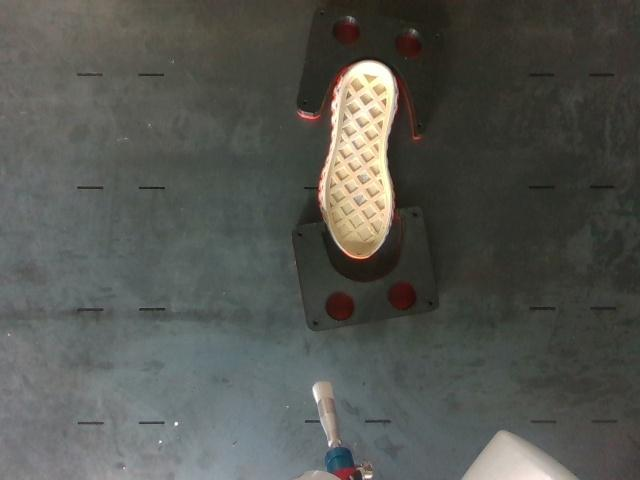shoes: (325, 63, 393, 257)
